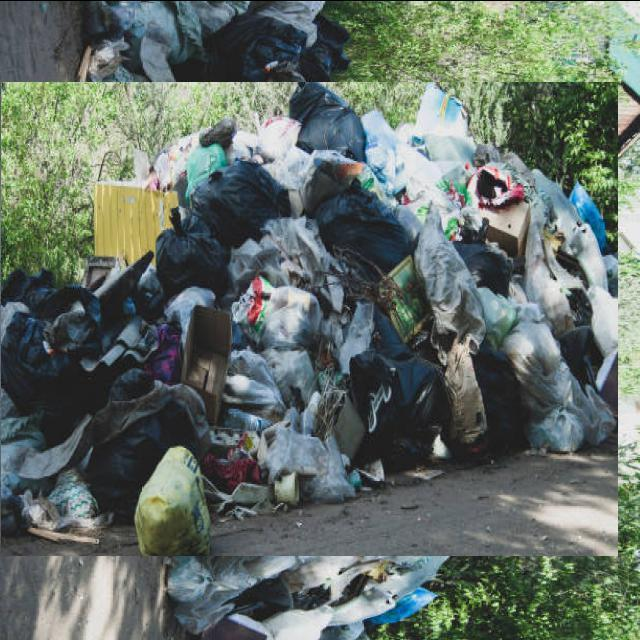Trashbag: (76, 387, 187, 518), (347, 352, 451, 432), (316, 189, 415, 270), (468, 349, 529, 448), (197, 162, 282, 232), (298, 89, 372, 162), (154, 220, 228, 292), (1, 314, 56, 404), (454, 237, 516, 304), (46, 307, 102, 361)
